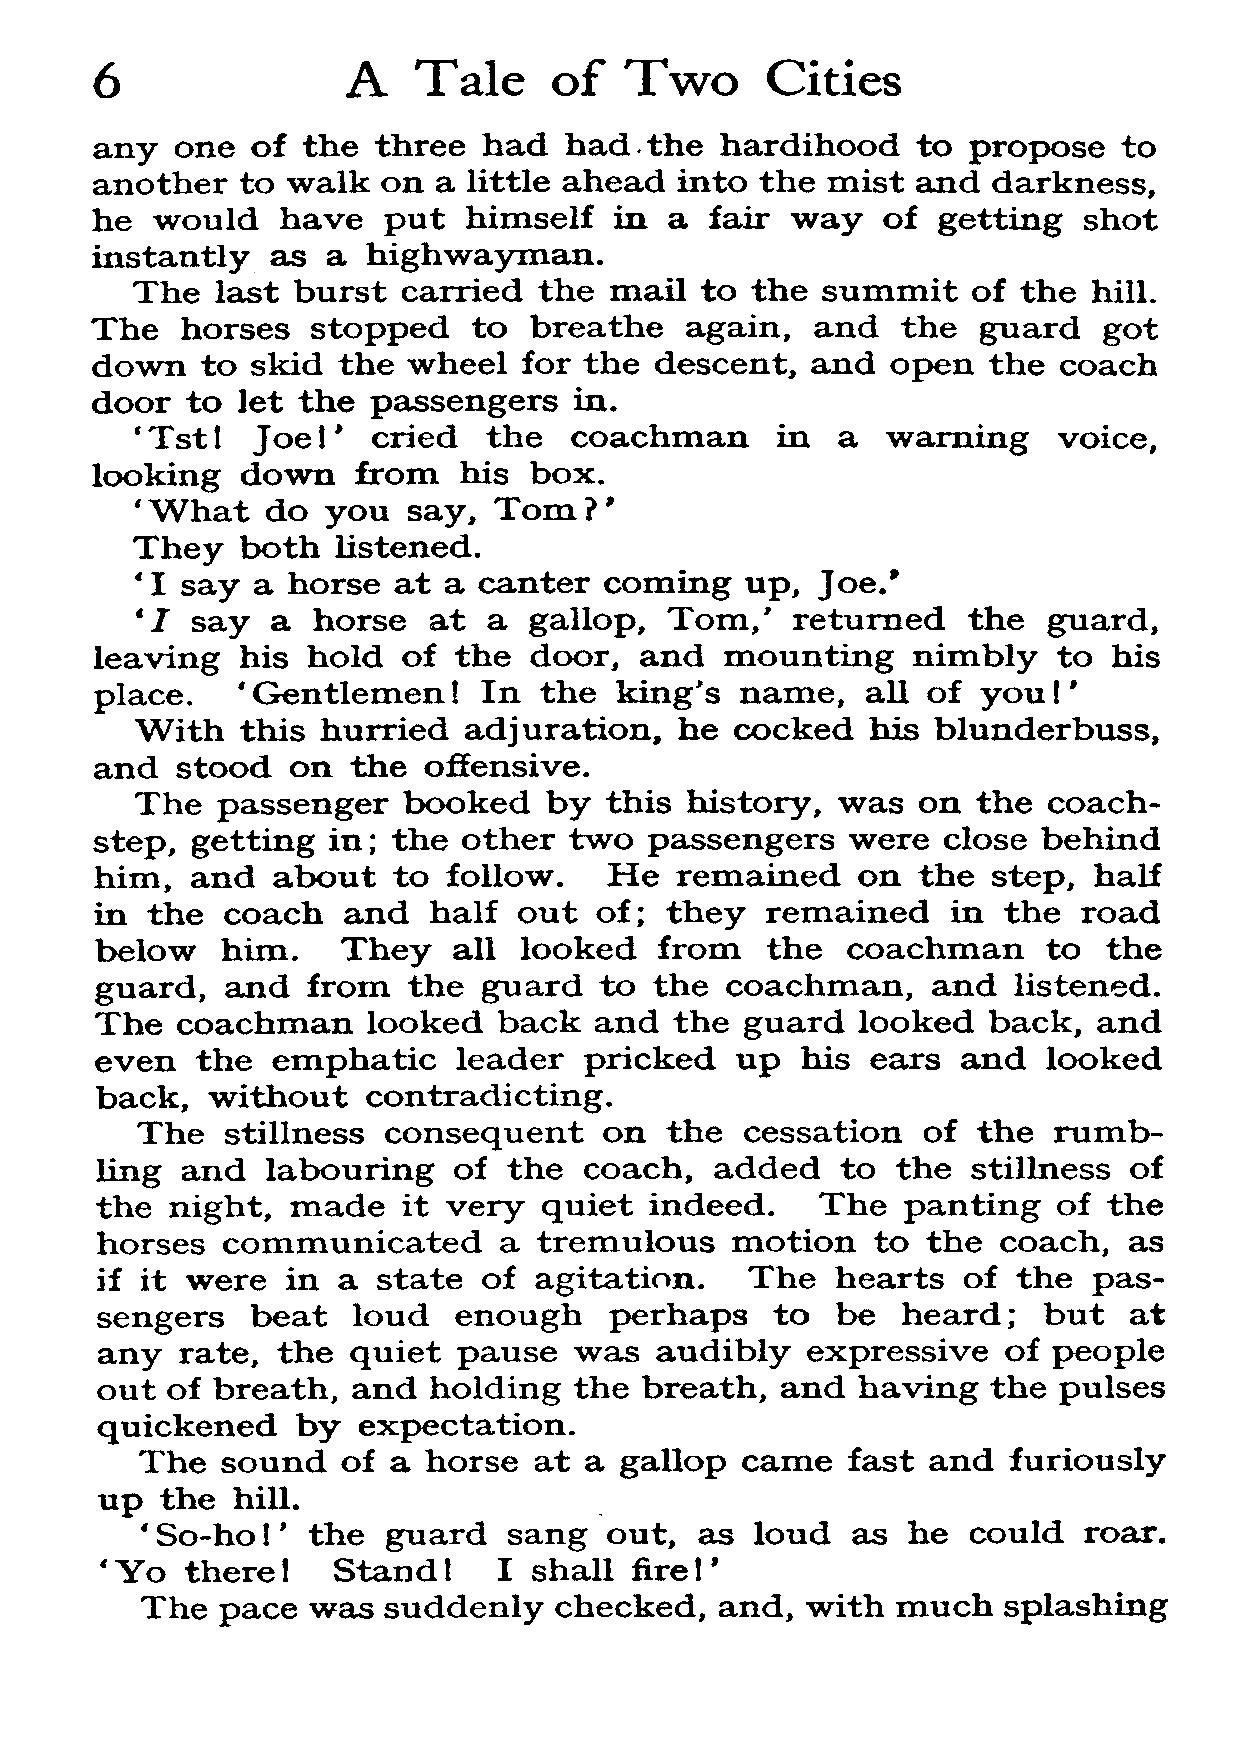content: (93, 129, 1174, 1629)
content_chapter: (335, 52, 905, 102)
content_pagenumber: (86, 46, 126, 107)
